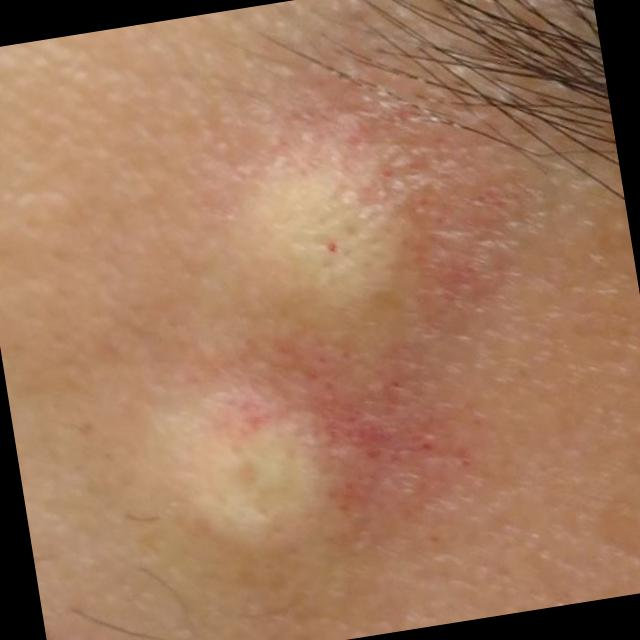nodule: (183, 125, 458, 381), (124, 374, 348, 559)
